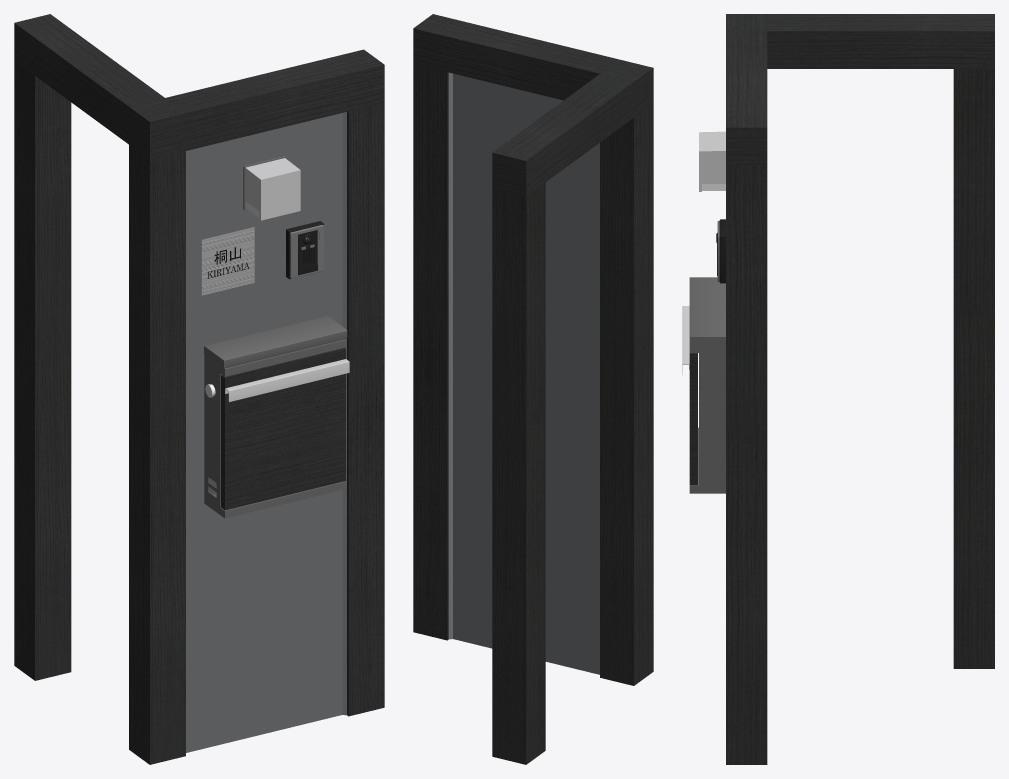
The model's file is abmonchu-styles5_matlightgray.fbx.
The picture shows the model from 3 angles, left to right: view 1: azimuth 30°, elevation 25°; view 2: azimuth 150°, elevation 25°; view 3: azimuth 270°, elevation 25°; orthographic projection. The views are drawn at different scales.
Visible parts, largest first — view 1: abmonchu-styles5_mat-l-gray; view 2: abmonchu-styles5_mat-l-gray; view 3: abmonchu-styles5_mat-l-gray.
Boxes of the visible parts, x1=… form: abmonchu-styles5_mat-l-gray: x1=14, y1=14, x2=384, y2=764; abmonchu-styles5_mat-l-gray: x1=413, y1=14, x2=653, y2=764; abmonchu-styles5_mat-l-gray: x1=682, y1=14, x2=994, y2=764.
Size of the model in its own units: 65 by 170 by 75.61.
Materials: 18 (7 with a texture image).
